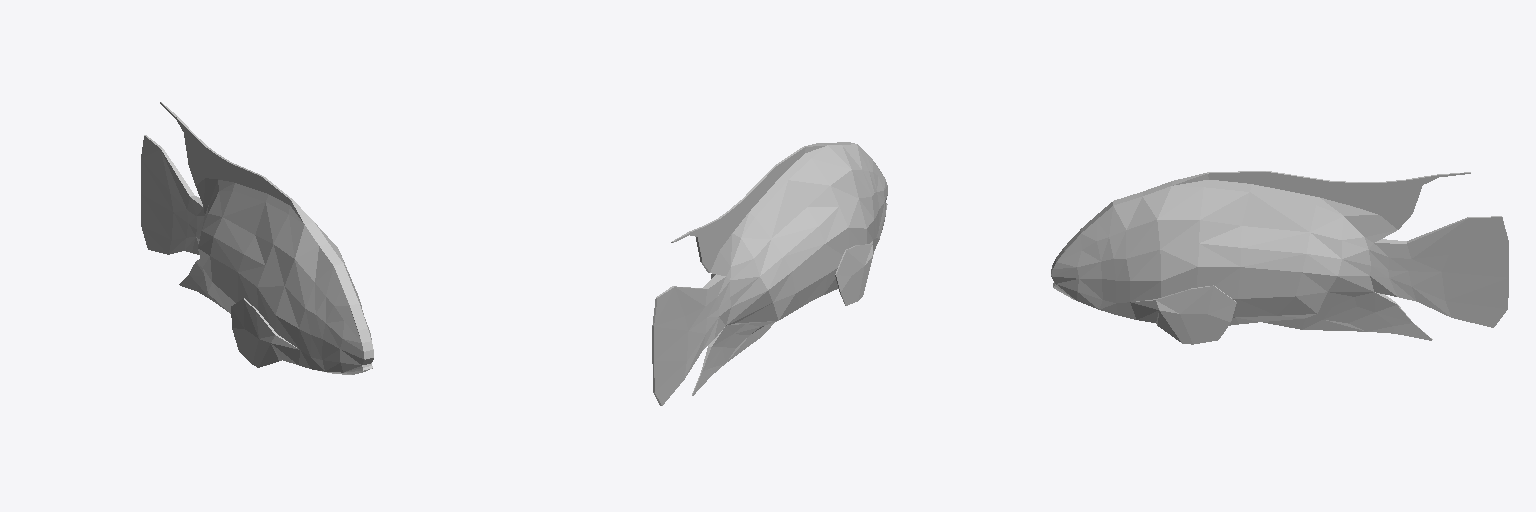
File: fish14.obj
The picture shows the model from 3 angles: view 1: azimuth 30°, elevation 25°; view 2: azimuth 150°, elevation 25°; view 3: azimuth 270°, elevation 25°; orthographic projection.
Parts seen in each view (by area): view 1: TropicalFish14:TropicalFish14; view 2: TropicalFish14:TropicalFish14; view 3: TropicalFish14:TropicalFish14.
Boxes of the visible parts, <box> form: TropicalFish14:TropicalFish14: <box>141,102,373,374</box>; TropicalFish14:TropicalFish14: <box>652,142,887,405</box>; TropicalFish14:TropicalFish14: <box>1051,171,1508,344</box>.
Size of the model in its own units: 1.57 by 2.63 by 6.45.